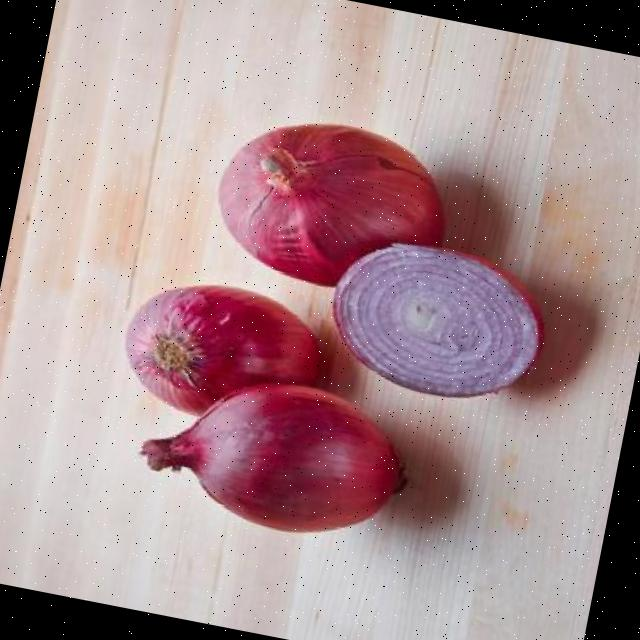Onion: (140, 383, 405, 532), (219, 123, 444, 285), (126, 284, 321, 415)
